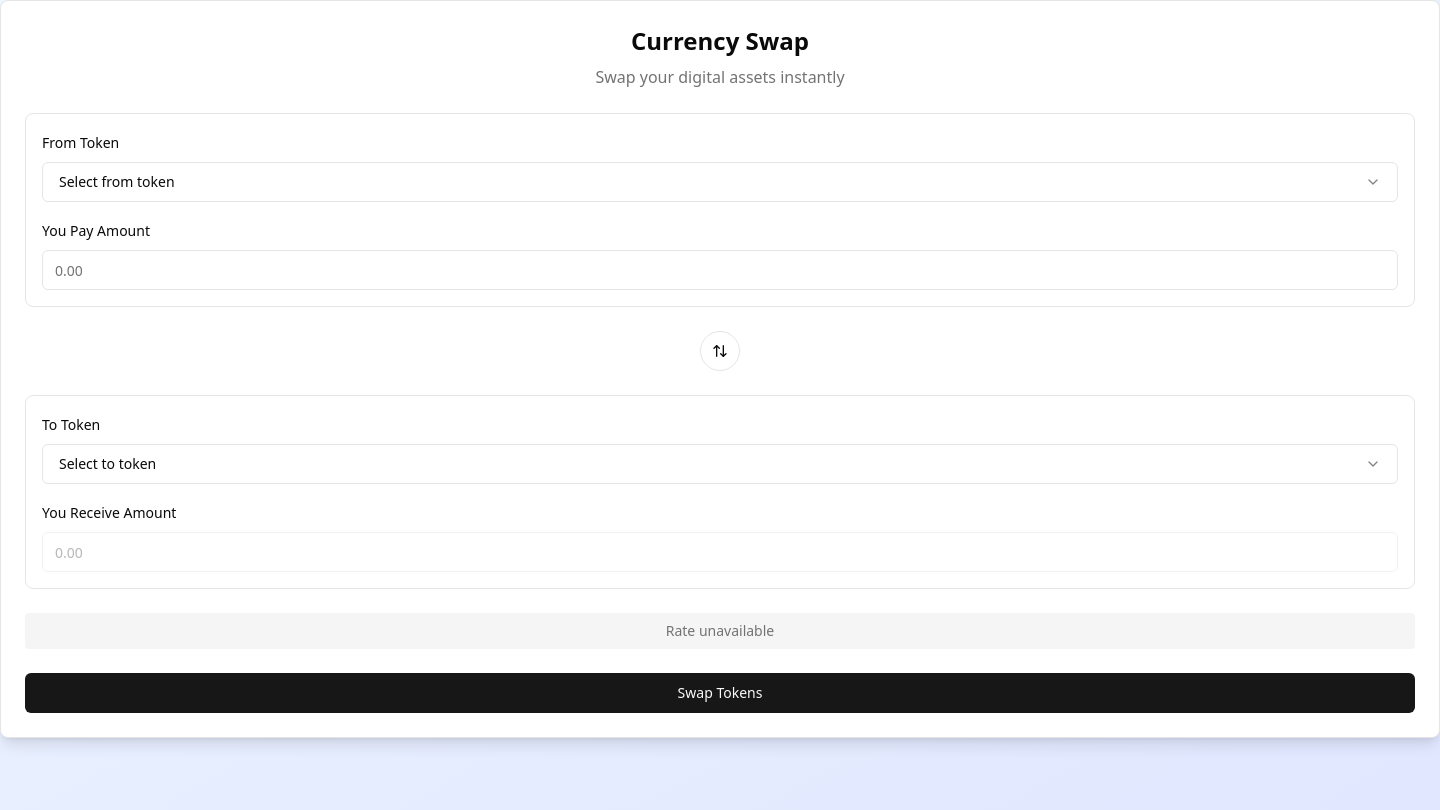
Test case: SwapFormContainer › displays validation errors when submitting empty form
Click the button "Swap Tokens": (720, 693) 25,673 -> 1415,713
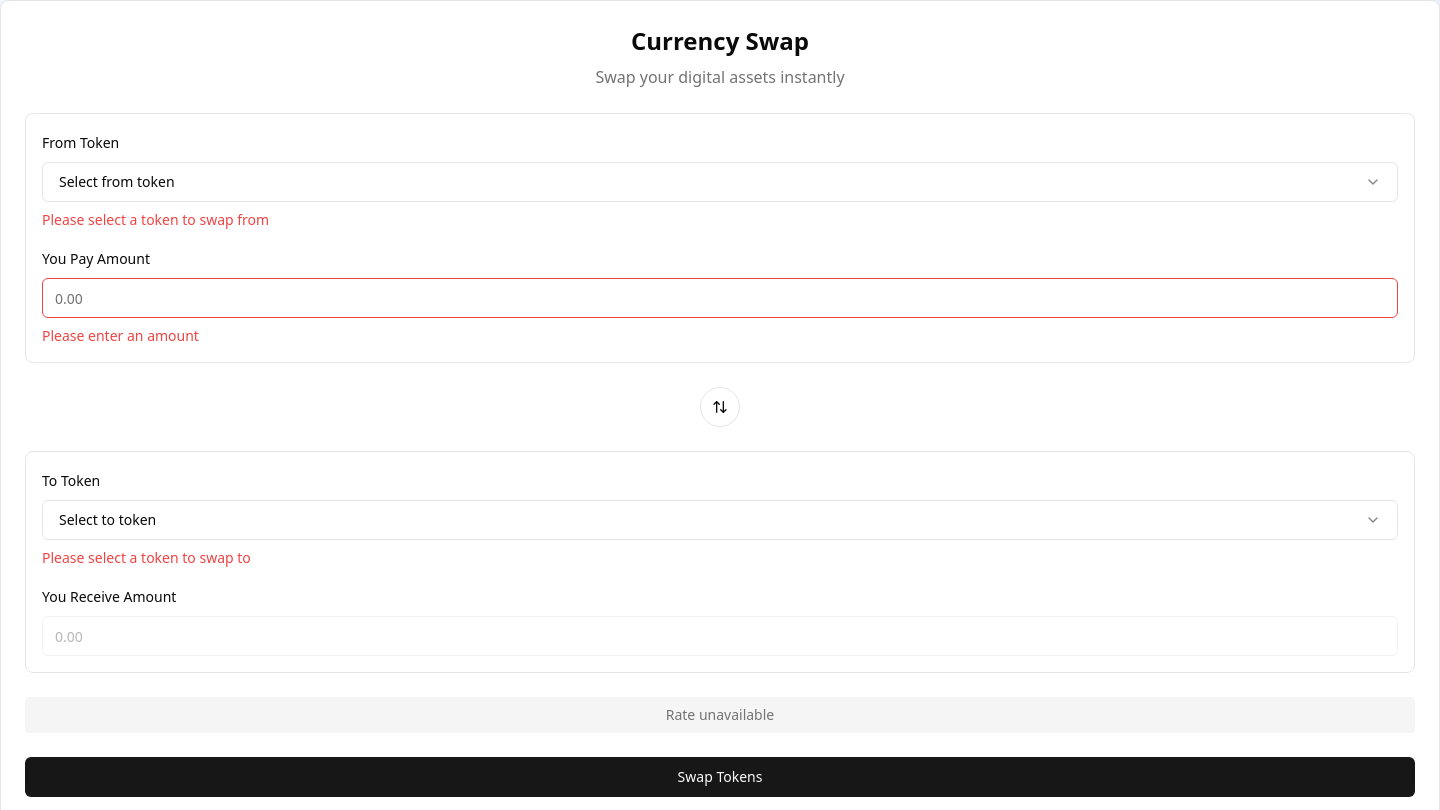
Check: the text "Please select a token to swap from" is shown, box 42,210 -> 269,229
Check: the text "Please select a token to swap to" is shown, box 42,548 -> 251,567
Check: the text "Please enter an amount" is shown, box 42,326 -> 199,345
